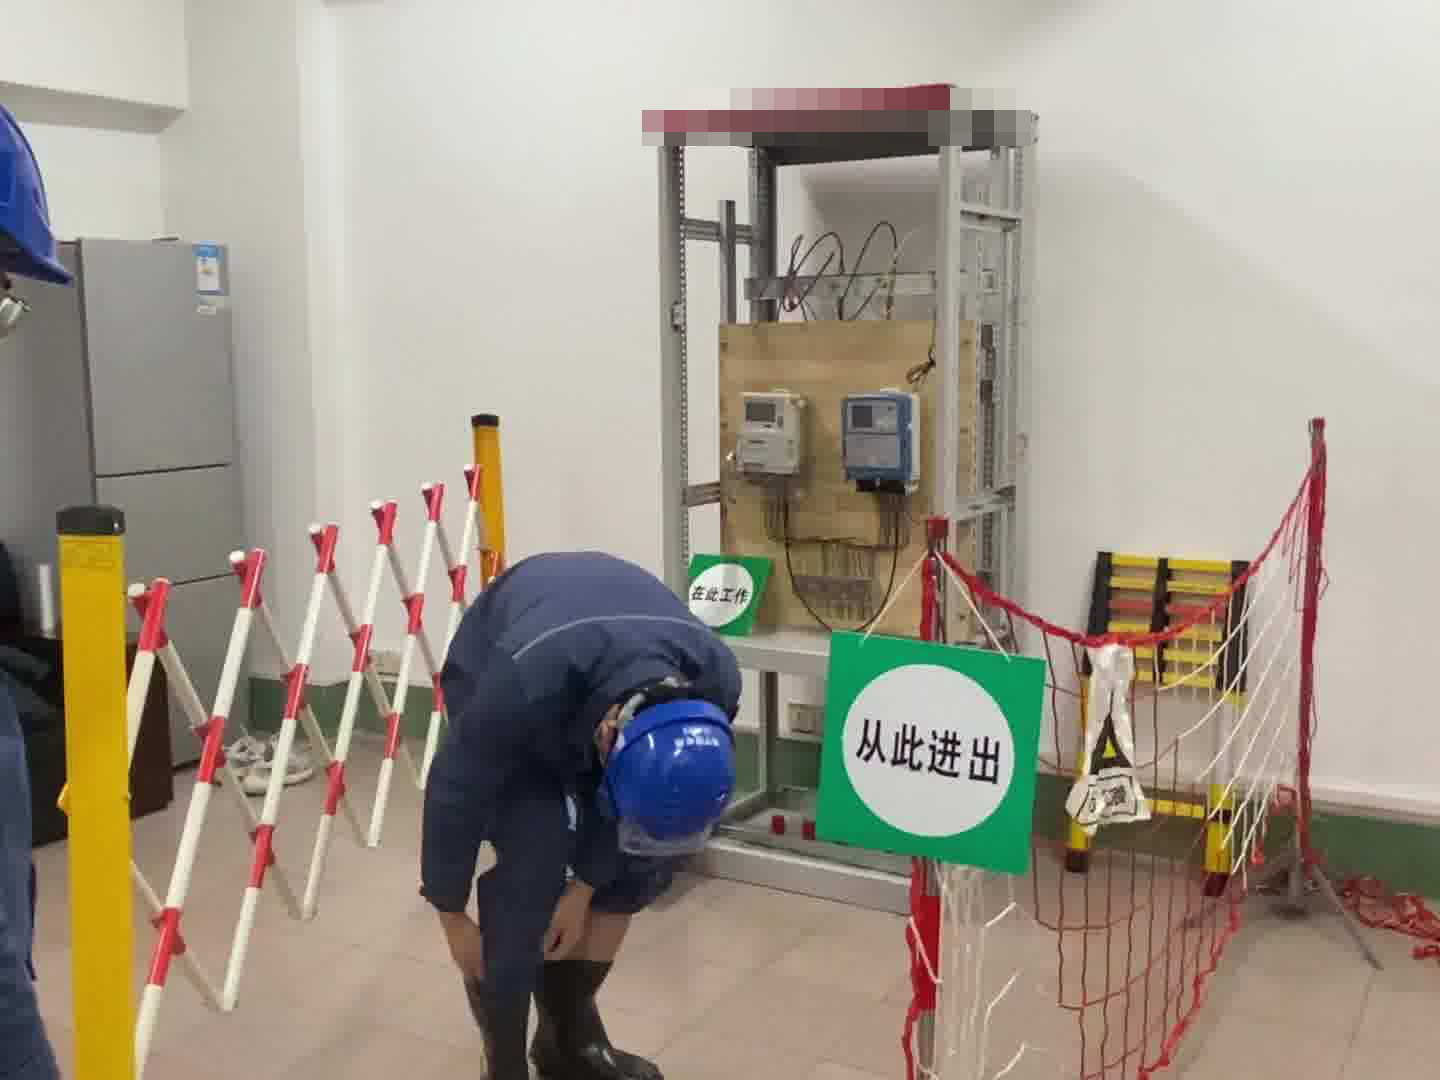downsuit: (490, 767, 598, 906)
halt: (589, 697, 739, 876)
hand: (544, 886, 605, 967), (432, 910, 487, 978)
intosign: (812, 624, 1050, 880)
person: (414, 535, 750, 1079)
shoe: (537, 953, 662, 1080), (467, 862, 537, 1079)
upsuit: (419, 550, 744, 882)
worksign: (691, 554, 776, 634)
